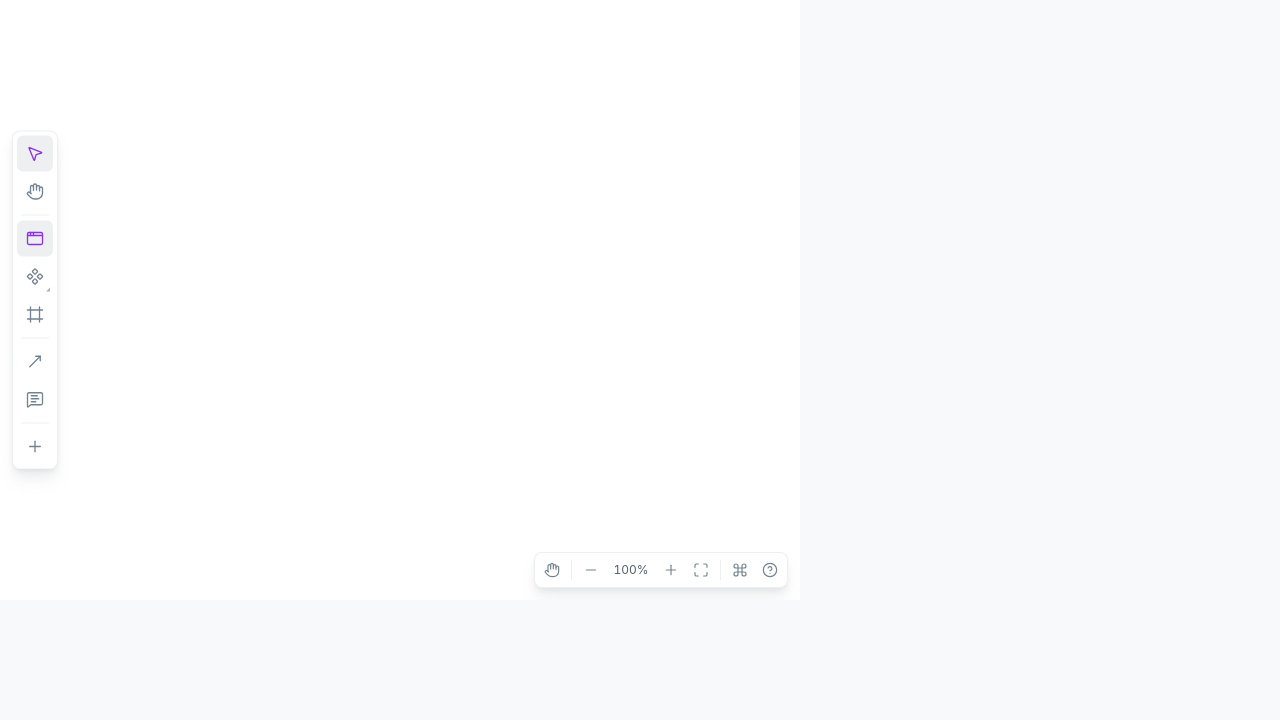
Test: wireframe plugin › opens the launcher from the toolbar button
Click the button named "Components": (35, 276) [17,258,53,294]
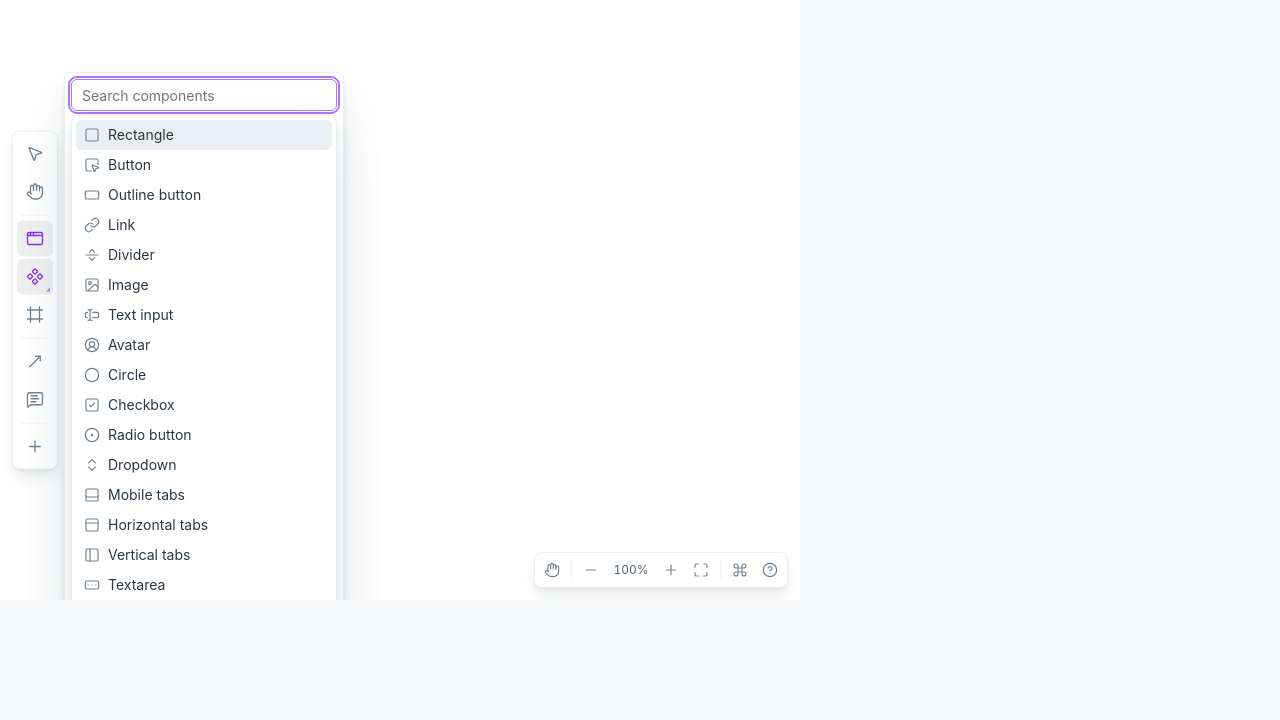
Now the dialog with class "wf-panel" is shown, box [64,72,344,600]
